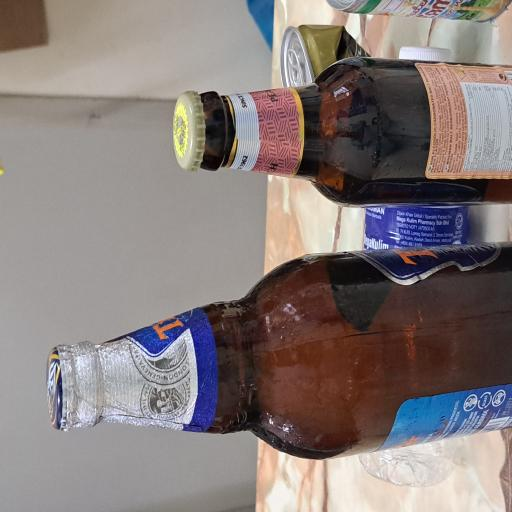can: (318, 372, 366, 458)
glass bottle: (40, 61, 200, 512), (228, 231, 338, 512)
plastic bottle: (19, 477, 351, 512)
pop tab: (318, 380, 351, 410)
